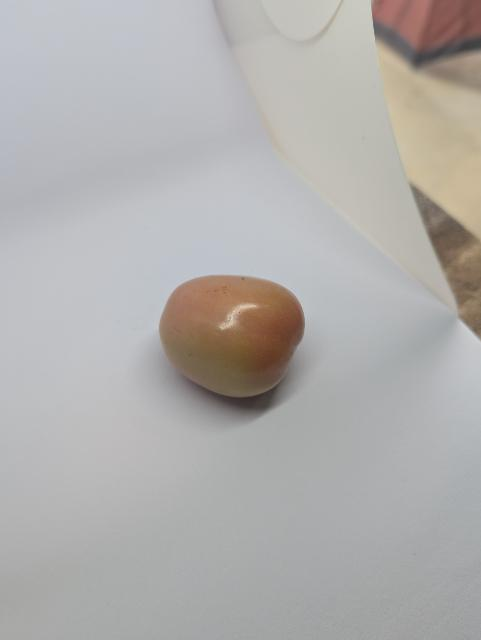turning: (149, 258, 313, 415)
